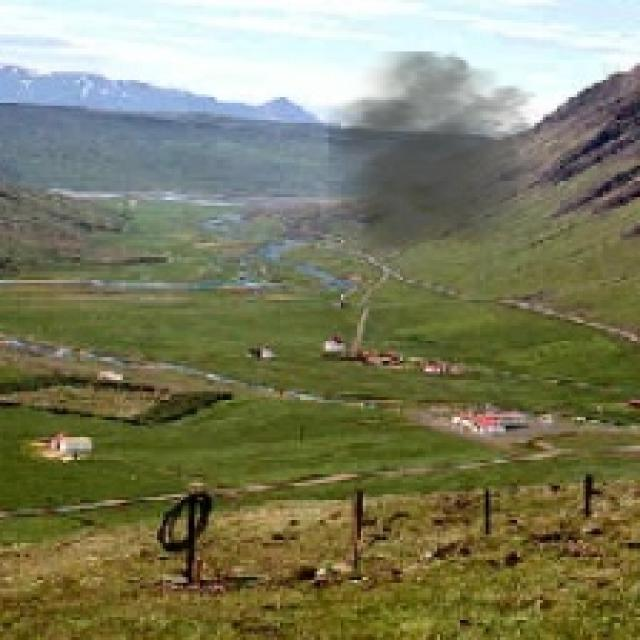smoke: (329, 51, 560, 260)
